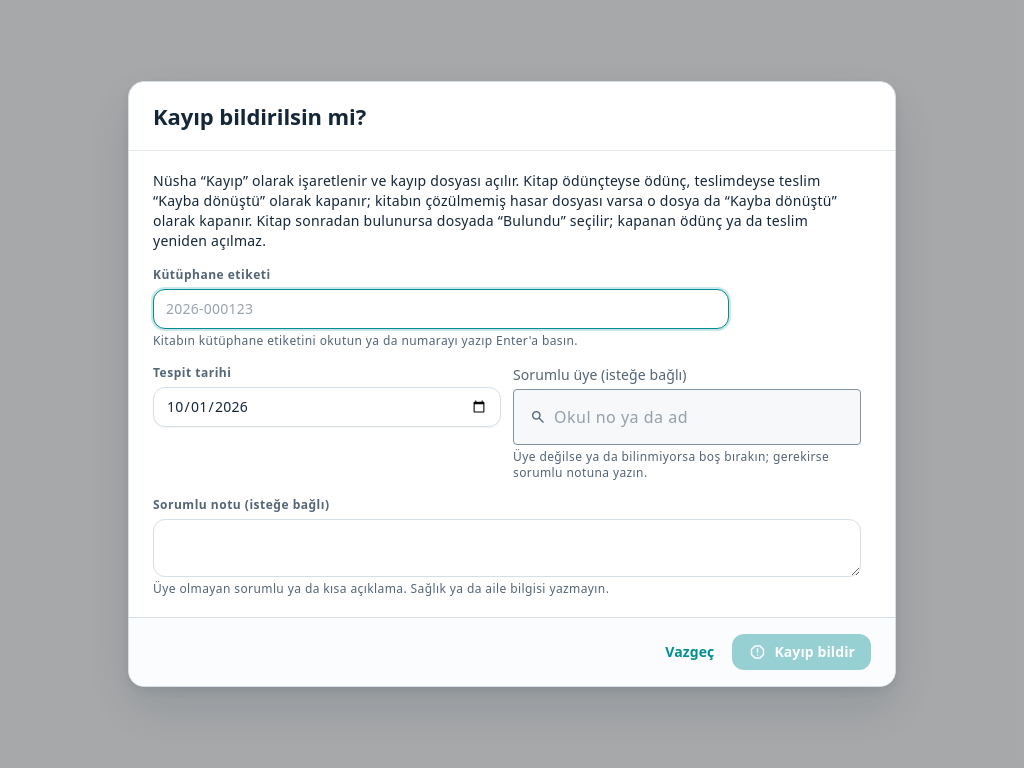
Test: DosyaAcDiyalogu — kayıp bildirimi › teslimdeki kitapta üye alanı dosyanın kime bağlanacağını söyler
The width and height of the screenshot is (1024, 768).
Type "2026000123" into the field labelled "Kütüphane etiketi". click: (441,309)
box: [166,299,716,319]
Then press Enter
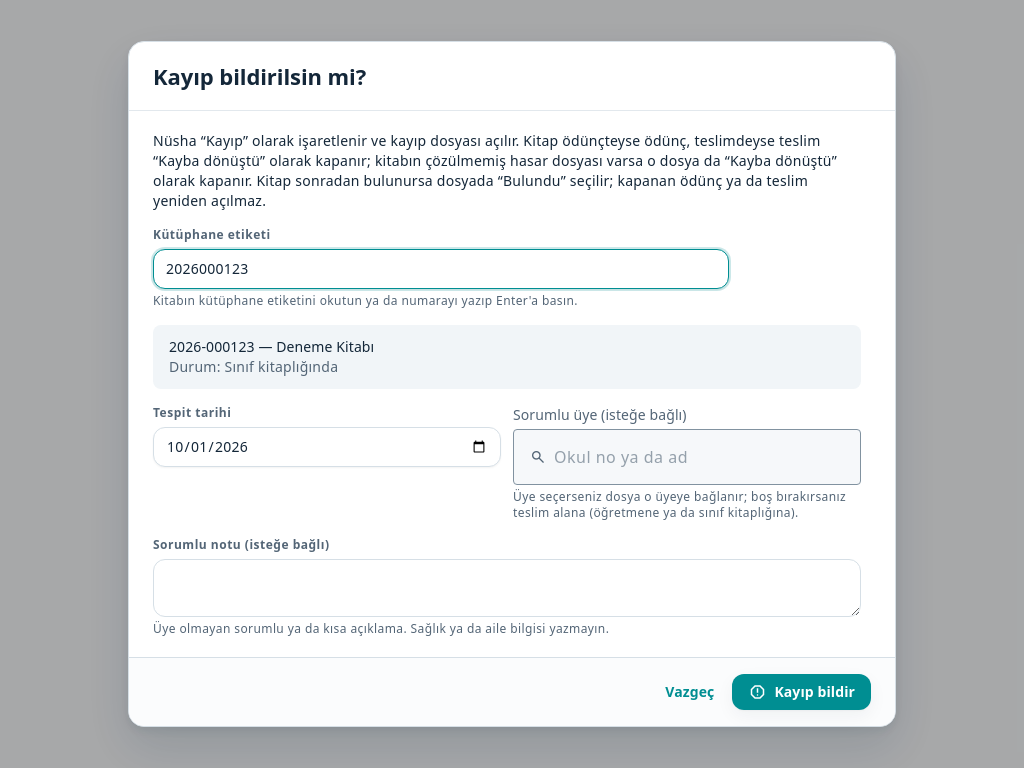
Expected: the dropdown is shown, [554,445,844,469]
Expected: the text "Durum: Sınıf kitaplığında" is shown, [169,357,338,376]
